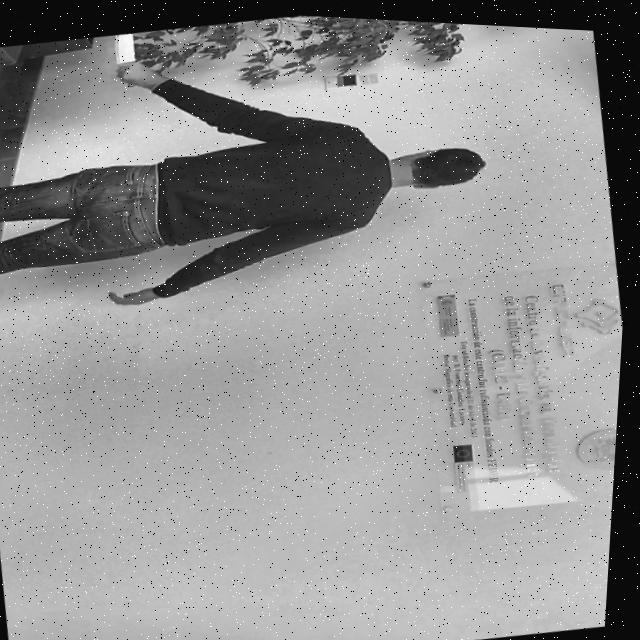knife: (110, 28, 148, 66)
